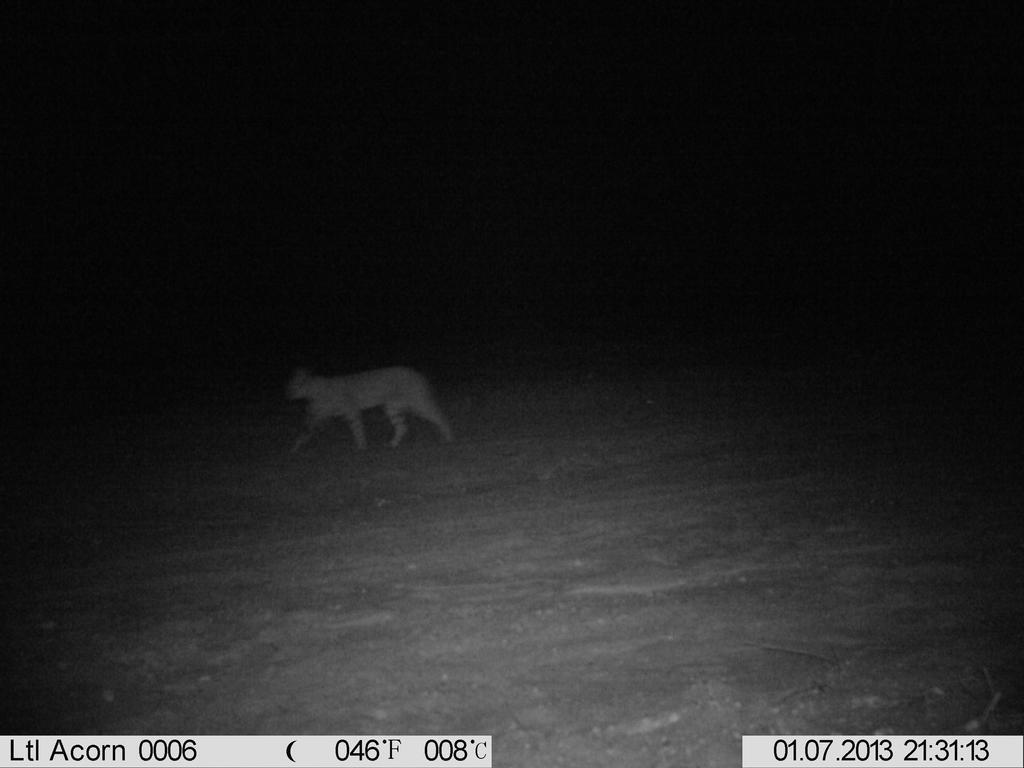bobcat: (276, 359, 457, 461)
